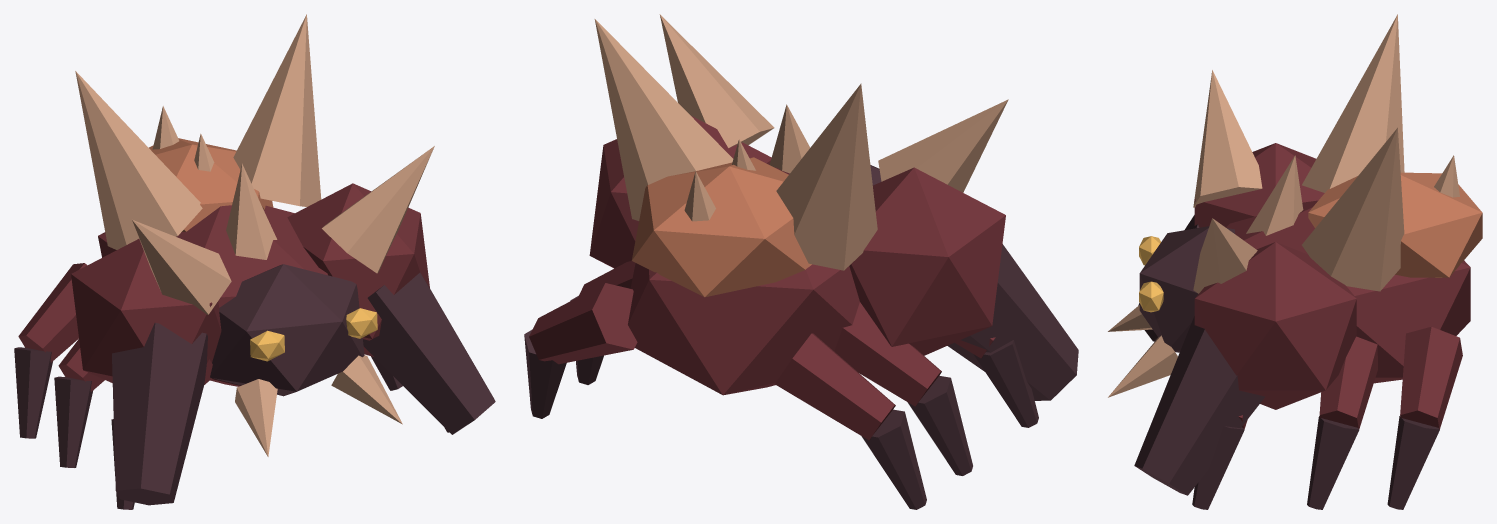
The model's file is behemoth.glb.
The picture shows the model from 3 angles, left to right: view 1: azimuth 30°, elevation 25°; view 2: azimuth 150°, elevation 25°; view 3: azimuth 270°, elevation 25°; orthographic projection. The views are drawn at different scales.
Visible parts, largest first — view 1: behemoth; view 2: behemoth; view 3: behemoth.
Part boxes in pixels (box(x1,y1,x2,y2)): behemoth: box(14, 14, 495, 509); behemoth: box(524, 14, 1078, 509); behemoth: box(1108, 14, 1482, 509).
Size of the model in its own units: 4.04 by 3.65 by 3.46.
Materials: 1 (1 with a texture image).
